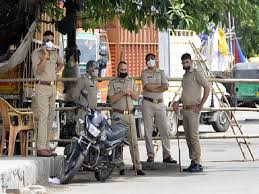mask: (43, 32, 56, 52), (84, 61, 98, 79), (180, 53, 191, 71), (117, 61, 127, 79), (144, 54, 155, 70)
